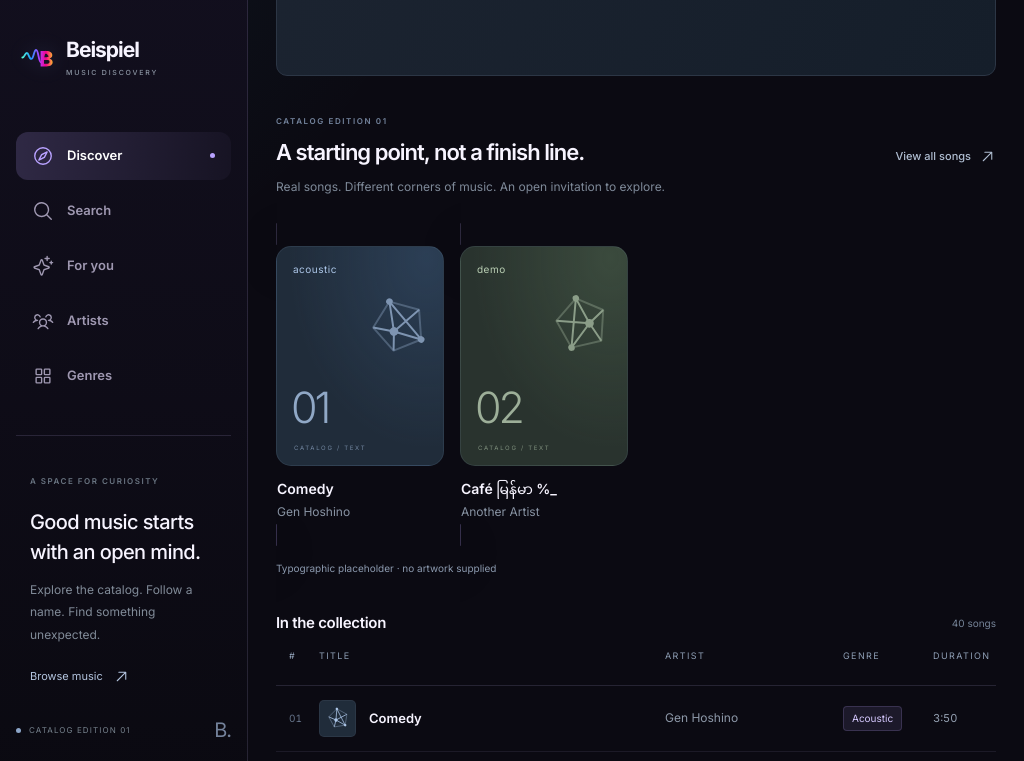
Scenario: M04 catalog experience › renders API tracks and navigates from Home to real song details
The width and height of the screenshot is (1024, 761).
(page scrolled)
Click the link with aria-label "View details for Comedy" at (276, 234), box [276, 223, 444, 546]
(page scrolled)
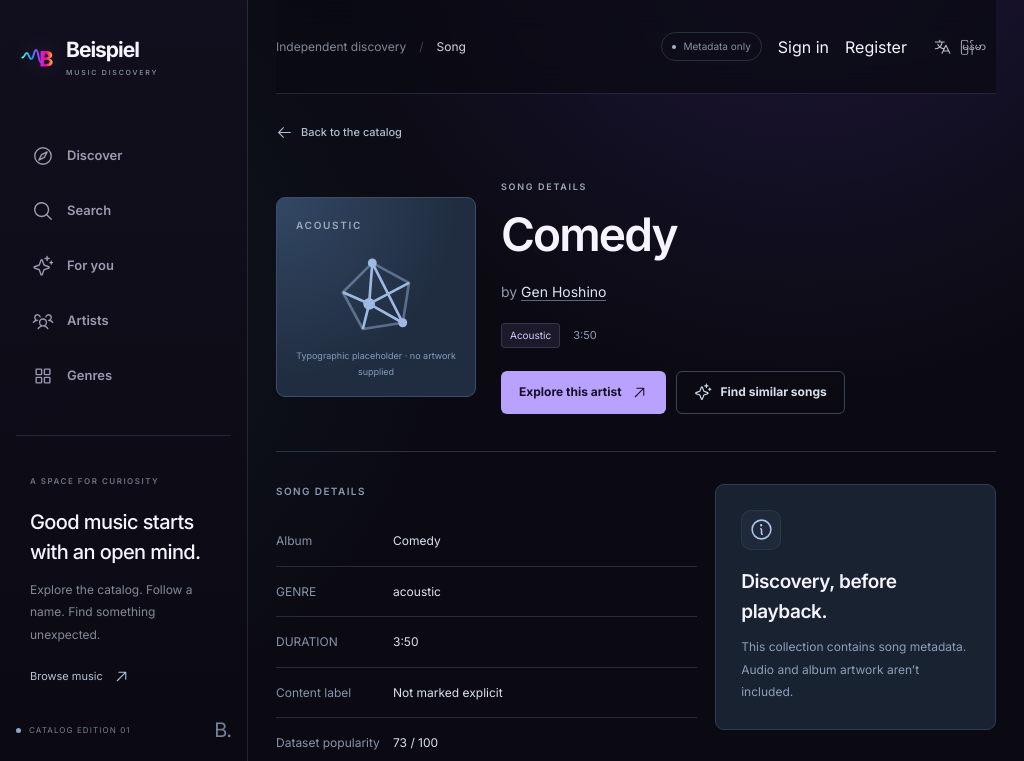
Expected: the text "Typographic placeholder · no artwork supplied" is shown, [286, 348, 466, 379]
Expected: the heading "Comedy" is shown, [501, 206, 677, 262]
